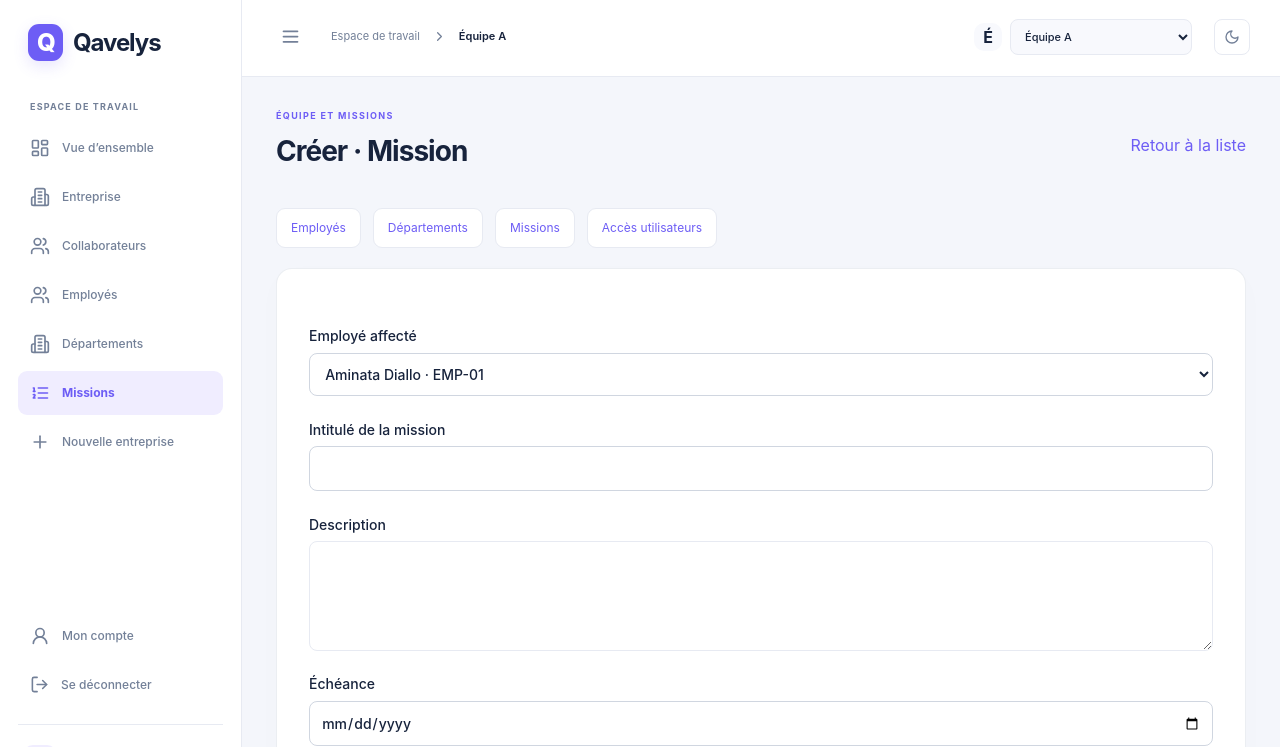
Test case: préremplit l’employé depuis le lien d’attribution et enregistre la mission
The width and height of the screenshot is (1280, 747).
Check: the dropdown labelled "Employé affecté" shows "Aminata Diallo · EMP-01", box [309, 353, 1213, 396]
Step 1. Type "Préparer les équipements" into the field labelled "Intitulé de la mission" → (761, 469), box [309, 446, 1213, 491]
(page scrolled)
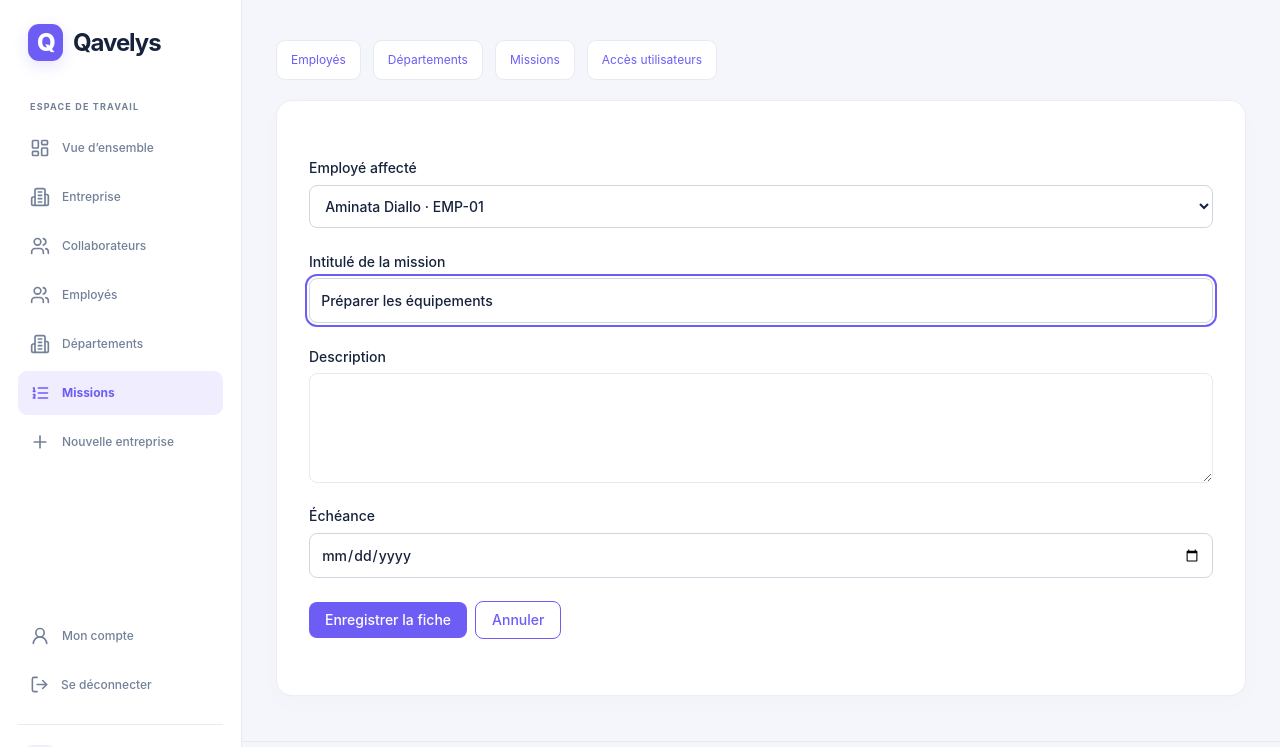
Step 2. Click the button "Enregistrer la fiche" → (388, 620), box [309, 602, 467, 638]
(page scrolled)
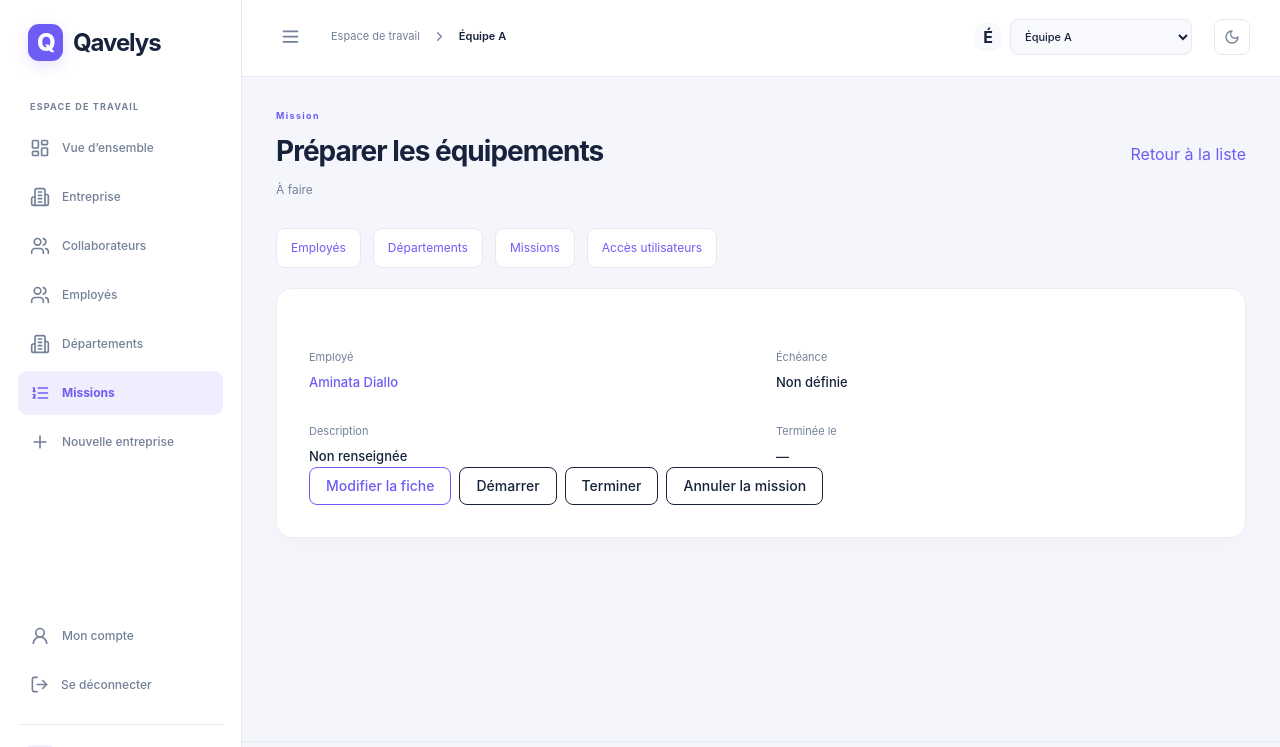
Check: the heading "Préparer les équipements" is shown, box [276, 130, 603, 172]
